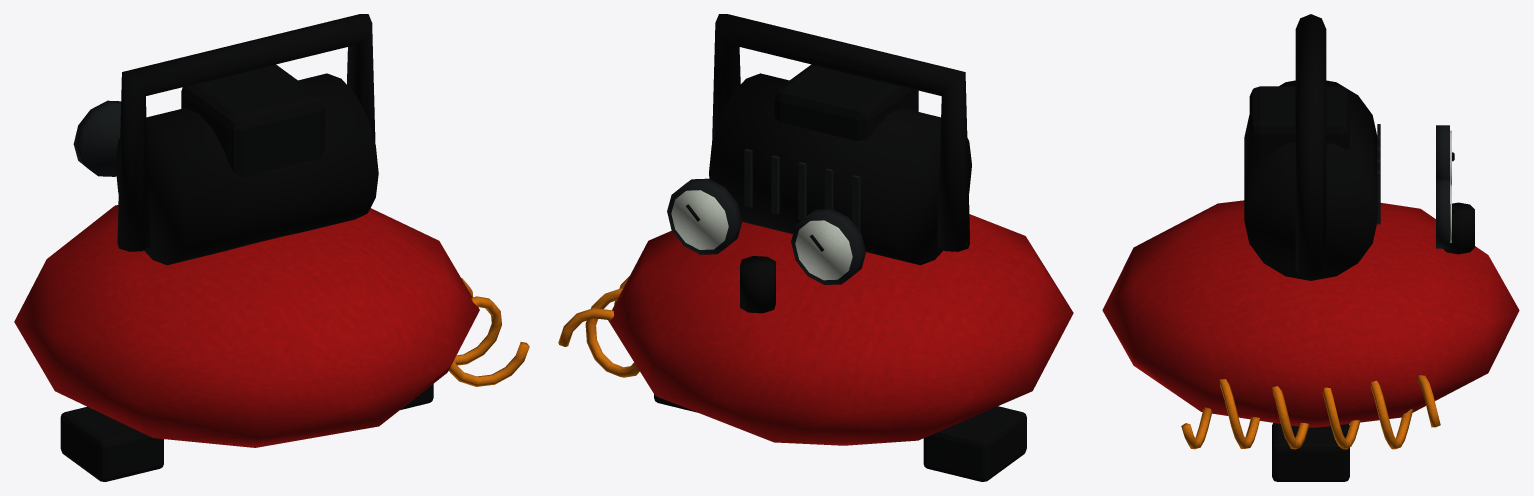
The model's file is AirCompressor.gltf.
The picture shows the model from 3 angles, left to right: view 1: azimuth 30°, elevation 25°; view 2: azimuth 150°, elevation 25°; view 3: azimuth 270°, elevation 25°; orthographic projection. The views are drawn at different scales.
Parts seen in each view (by area): view 1: AirCompressor__Body; view 2: AirCompressor__Body; view 3: AirCompressor__Body.
Part boxes in pixels (x1,y1,x2,y2): AirCompressor__Body: (14,14,529,481); AirCompressor__Body: (558,14,1073,481); AirCompressor__Body: (1102,14,1519,481).
Bounding box in the file's own units: 0.4202 × 0.3823 × 0.42.
Materials: 1 (1 with a texture image).
